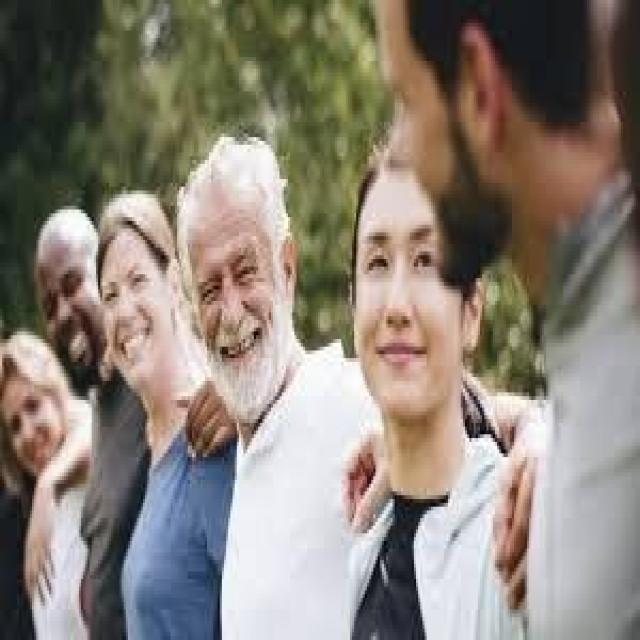person: (348, 8, 634, 636), (168, 130, 376, 636), (337, 130, 536, 636), (26, 198, 196, 636), (90, 191, 245, 628), (0, 270, 113, 590)
